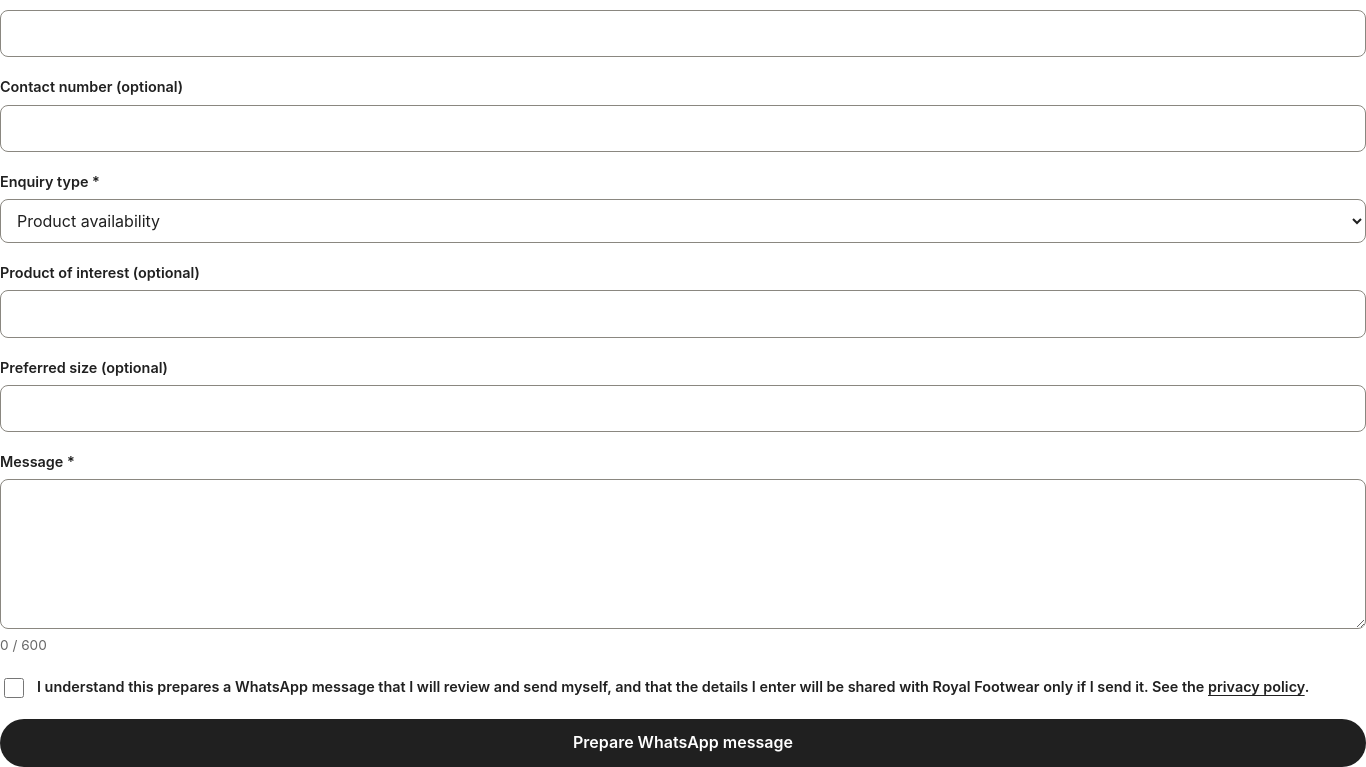
Test: EnquiryForm with a configured number › validates, then opens a wa.me link with the encoded message only after a deliberate submit
(page scrolled)
Click the button "Prepare WhatsApp message": (683, 743) [0, 719, 1365, 766]
(page scrolled)
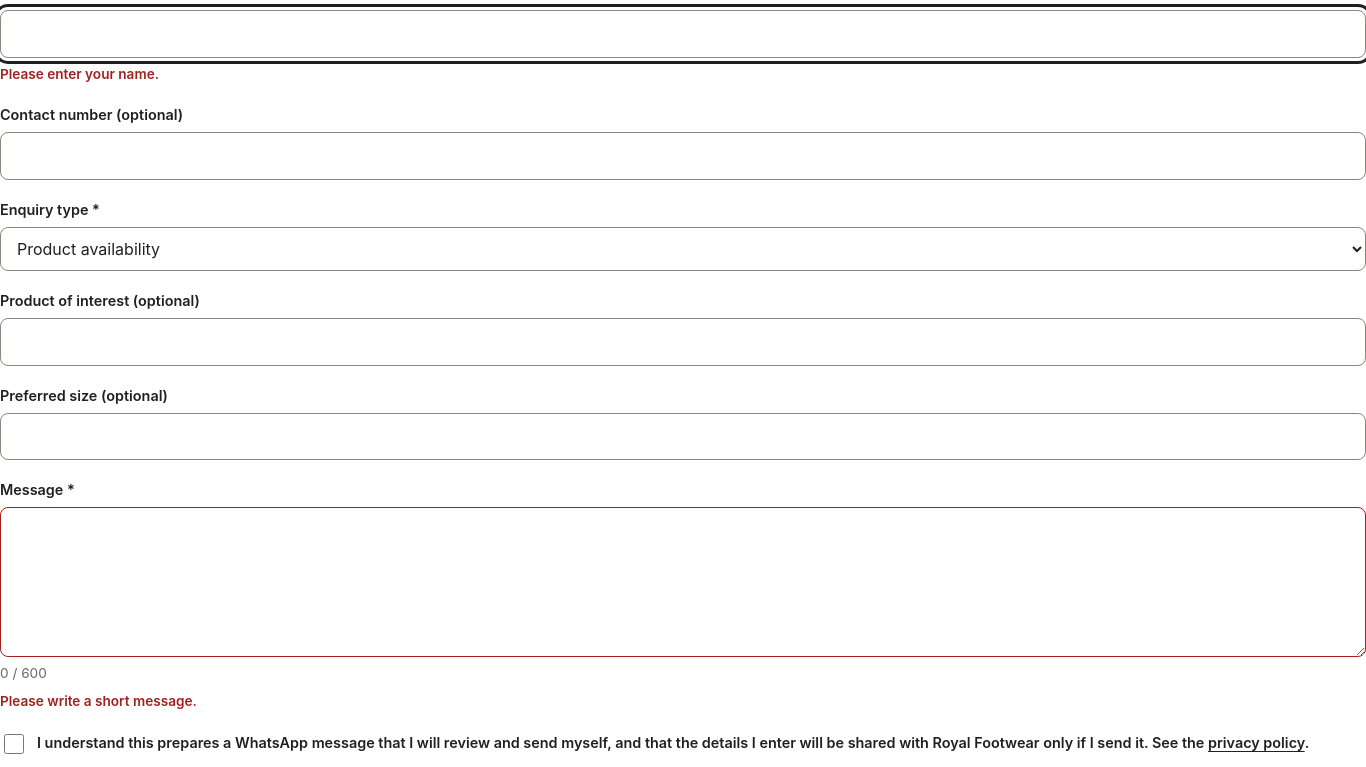
In the field labelled "Your name *": (683, 34) [0, 10, 1365, 58], type "Asha & Co"
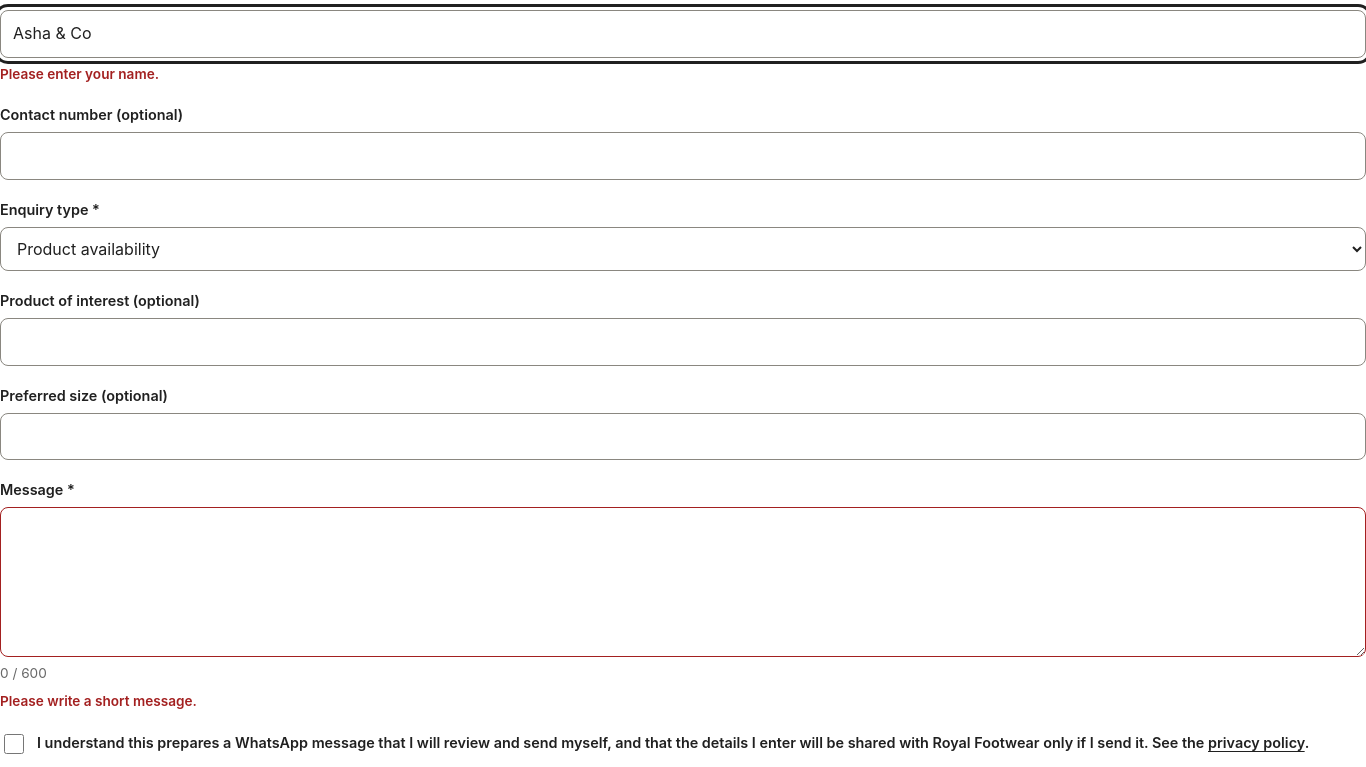
In the text box labelled "Message *": (683, 582) [0, 507, 1365, 657], type "Size 7 in black?"
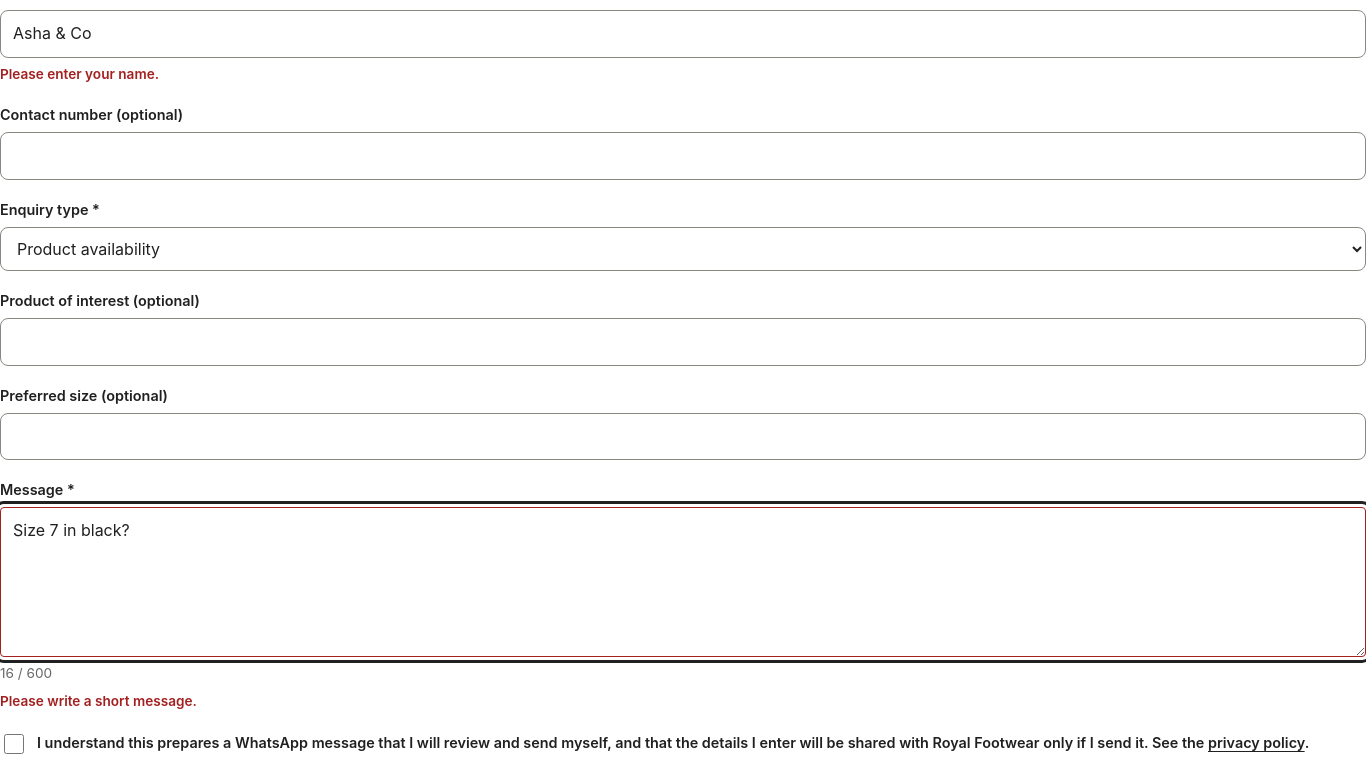
Click the checkbox labelled "I understand this prepares": (14, 744) [4, 734, 24, 754]
(page scrolled)
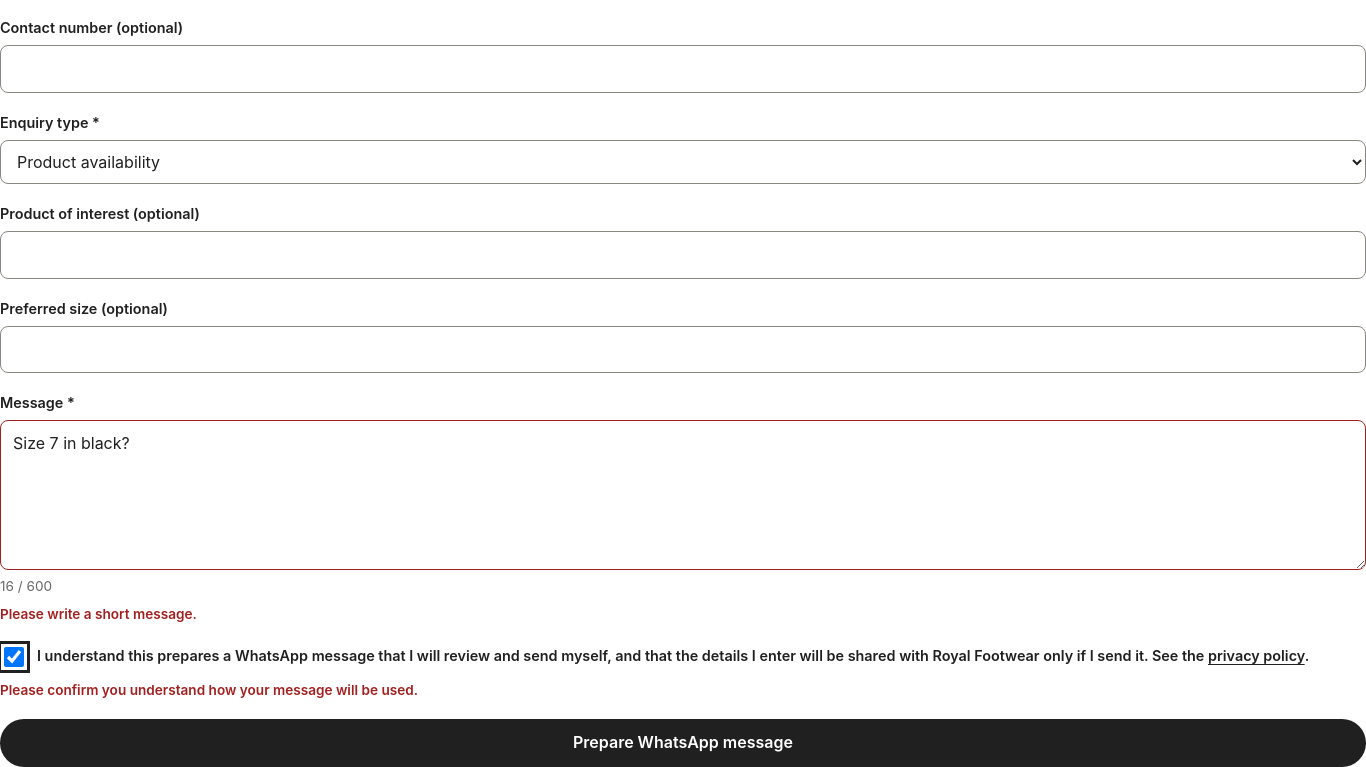
Click the button "Prepare WhatsApp message": (683, 743) [0, 720, 1365, 766]
(page scrolled)
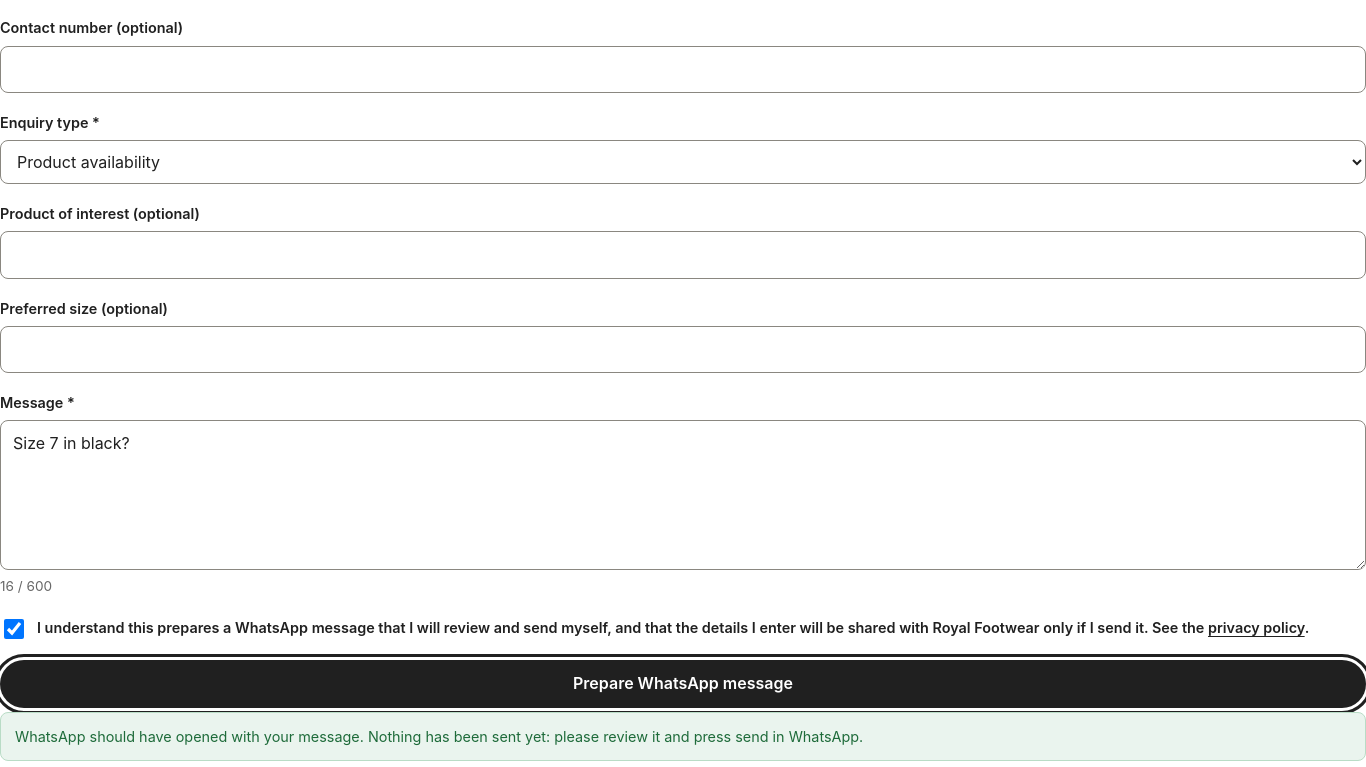
Now the message shows "Nothing has been sent yet", box [15, 728, 863, 745]
